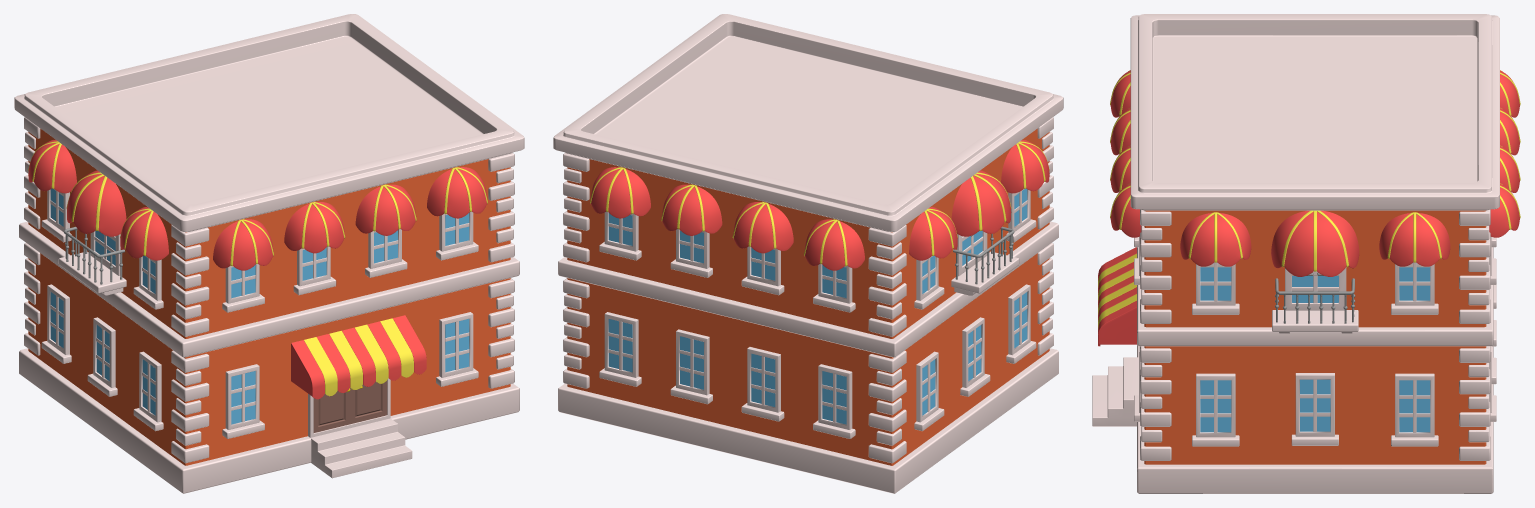
Rendered from Public_7_Hotel_1.glb.
3 renders of one model, left to right at view 1: azimuth 30°, elevation 25°; view 2: azimuth 150°, elevation 25°; view 3: azimuth 270°, elevation 25°, orthographic. The views are drawn at different scales.
Parts seen in each view (by area): view 1: Public_7_Hotel_1; view 2: Public_7_Hotel_1; view 3: Public_7_Hotel_1.
Boxes of the visible parts, x1,y1,x2,y2 form: Public_7_Hotel_1: (14,14,524,493); Public_7_Hotel_1: (553,14,1063,493); Public_7_Hotel_1: (1092,14,1520,493).
Size of the model in its own units: 12.19 by 8.28 by 10.57.
1 material, 1 textured.
